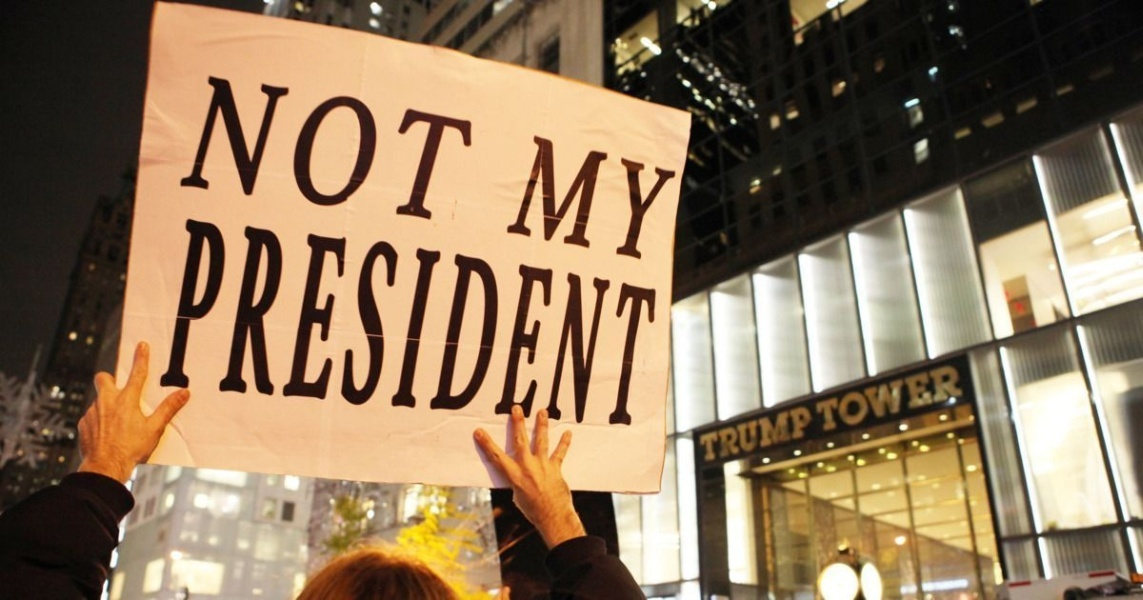text: (193, 211, 208, 431), (209, 211, 224, 431), (225, 211, 240, 431), (241, 211, 256, 431), (257, 211, 272, 431), (273, 211, 288, 431), (289, 211, 304, 431), (305, 211, 320, 431), (321, 211, 336, 431), (337, 211, 352, 431), (353, 211, 368, 431), (369, 211, 384, 431), (385, 211, 400, 431), (401, 211, 416, 431), (417, 211, 432, 431), (433, 211, 448, 431), (449, 211, 464, 431), (465, 211, 480, 431), (481, 211, 496, 431), (497, 211, 512, 431), (513, 211, 528, 431), (529, 211, 544, 431), (545, 211, 560, 431), (561, 211, 576, 431), (577, 211, 592, 431), (593, 211, 608, 431), (609, 211, 624, 431), (625, 211, 640, 431), (641, 211, 656, 431), (209, 64, 224, 228), (225, 64, 240, 228), (241, 64, 256, 228), (257, 64, 272, 228), (273, 64, 288, 228), (289, 64, 304, 228), (305, 64, 320, 228), (321, 64, 336, 228), (337, 64, 352, 228), (353, 64, 368, 228), (369, 64, 384, 228), (385, 64, 400, 228), (401, 64, 416, 228), (417, 64, 432, 228), (433, 64, 448, 228), (449, 64, 464, 228), (465, 64, 480, 228), (181, 211, 192, 431), (545, 133, 560, 261), (561, 133, 576, 261), (577, 133, 592, 261), (593, 133, 608, 261), (609, 133, 624, 261), (625, 133, 640, 261), (641, 133, 656, 261), (657, 133, 672, 261), (657, 211, 663, 431), (534, 133, 544, 261), (673, 133, 682, 261), (817, 361, 832, 437), (833, 361, 848, 437), (849, 361, 864, 437), (865, 361, 880, 437), (881, 361, 896, 437), (897, 361, 912, 437), (913, 361, 928, 437), (929, 361, 944, 437), (945, 361, 960, 437), (705, 404, 720, 465), (721, 404, 736, 465), (737, 404, 752, 465), (753, 404, 768, 465), (769, 404, 784, 465), (785, 404, 800, 465), (801, 404, 814, 465), (961, 361, 968, 437), (481, 64, 484, 228), (698, 404, 704, 465)
